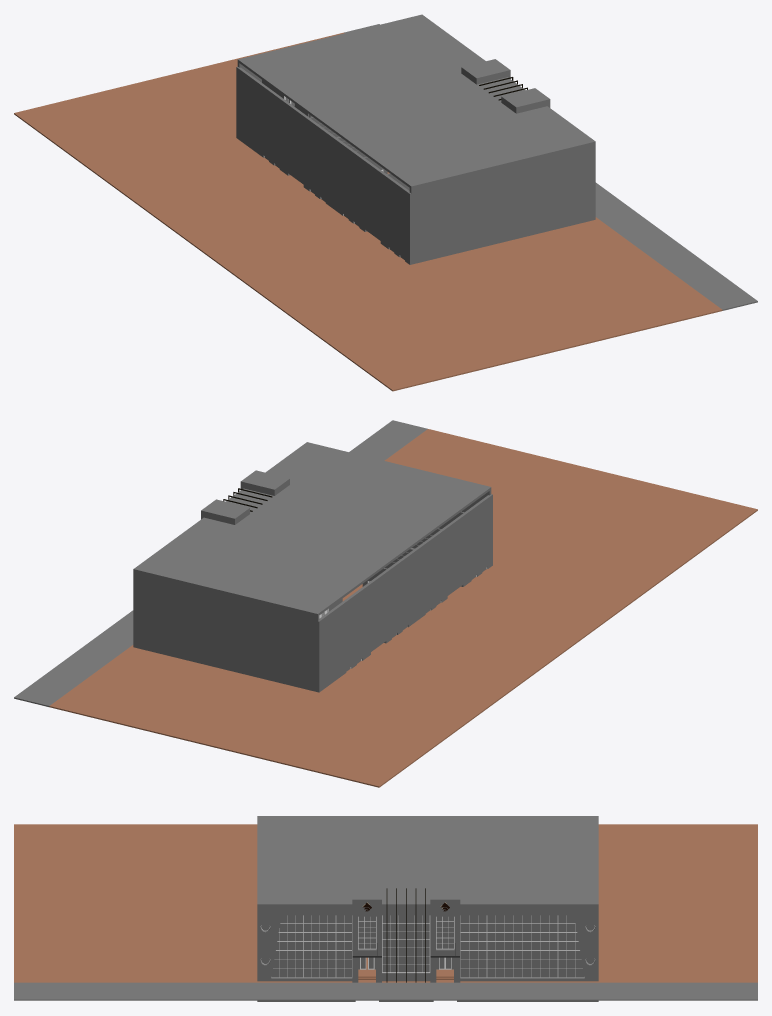
File: buisness center.FBX
3 views of the same model, one above another, from view 1: azimuth 30°, elevation 25°; view 2: azimuth 150°, elevation 25°; view 3: azimuth 270°, elevation 25° (orthographic).
Parts seen in each view (by area): view 1: stair, main wall1, komekci wall 1, tratuar; view 2: stair, main wall1, komekci wall 1, tratuar; view 3: stair, main wall1, glass, tratuar, komekci wall 1, pencere, cixinti1.
Boxes of the visible parts, x1,y1,x2,y2 form: stair: (14, 32, 722, 391); main wall1: (237, 14, 595, 264); komekci wall 1: (236, 59, 550, 264); tratuar: (344, 24, 757, 310); stair: (49, 429, 757, 787); main wall1: (133, 442, 492, 692); komekci wall 1: (201, 470, 492, 692); tratuar: (14, 420, 427, 706); stair: (14, 824, 757, 982); main wall1: (257, 816, 598, 1001); glass: (261, 915, 594, 977); tratuar: (14, 982, 757, 1000); komekci wall 1: (352, 883, 460, 1001); pencere: (260, 915, 595, 977); cixinti1: (386, 888, 425, 982).
Size of the model in its own units: 2643 by 731 by 4747.
